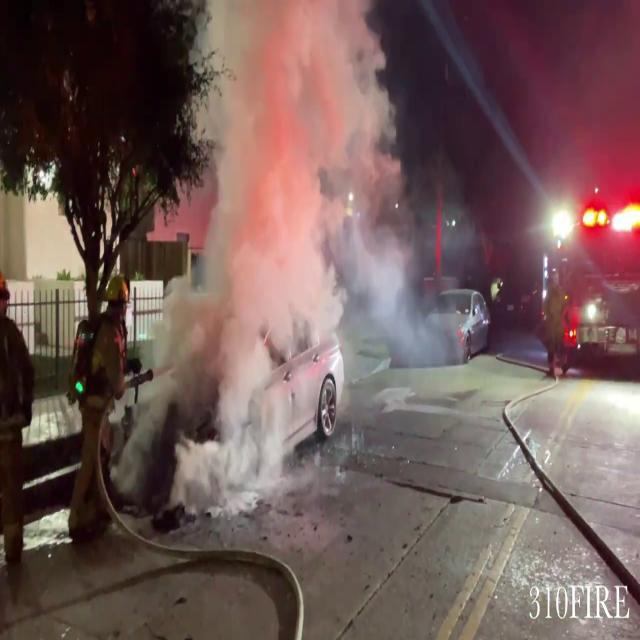Smoke: (137, 1, 420, 518)
